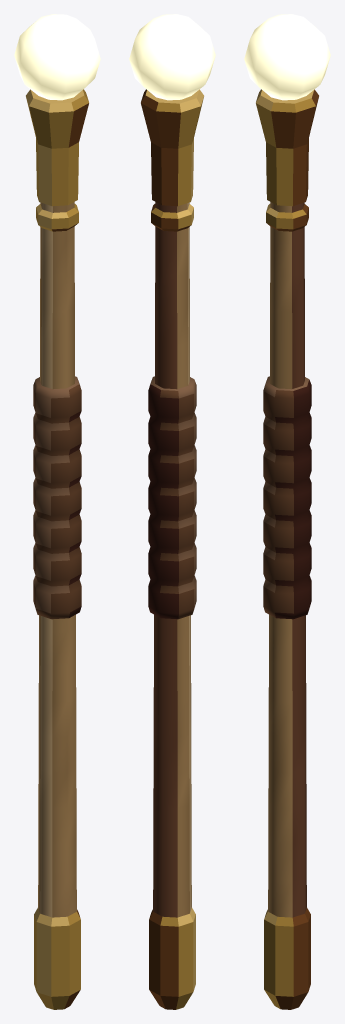
Rendered from sc_novice_scepter.glb.
The picture shows the model from 3 angles, left to right: view 1: azimuth 30°, elevation 25°; view 2: azimuth 150°, elevation 25°; view 3: azimuth 330°, elevation 25°; orthographic projection.
Visible parts, largest first — view 1: Weapon; view 2: Weapon; view 3: Weapon.
Boxes of the visible parts, x1=… form: Weapon: x1=14, y1=14, x2=100, y2=1009; Weapon: x1=129, y1=14, x2=215, y2=1009; Weapon: x1=244, y1=14, x2=330, y2=1009.
Bounding box in the file's own units: 0.09 × 1.13 × 0.0856.
